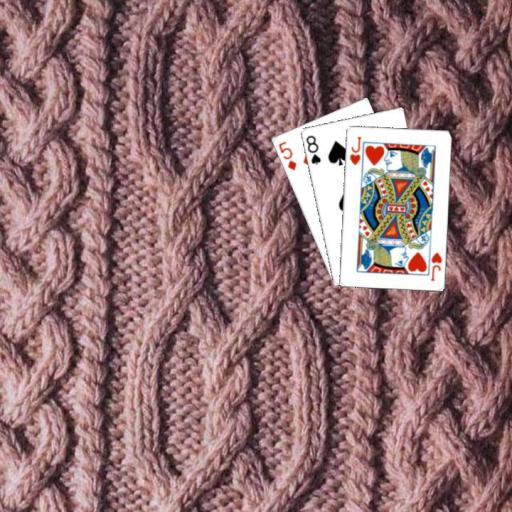5D: (275, 138, 298, 172)
8S: (303, 132, 322, 166)
JH: (346, 134, 362, 166), (427, 249, 443, 281)
